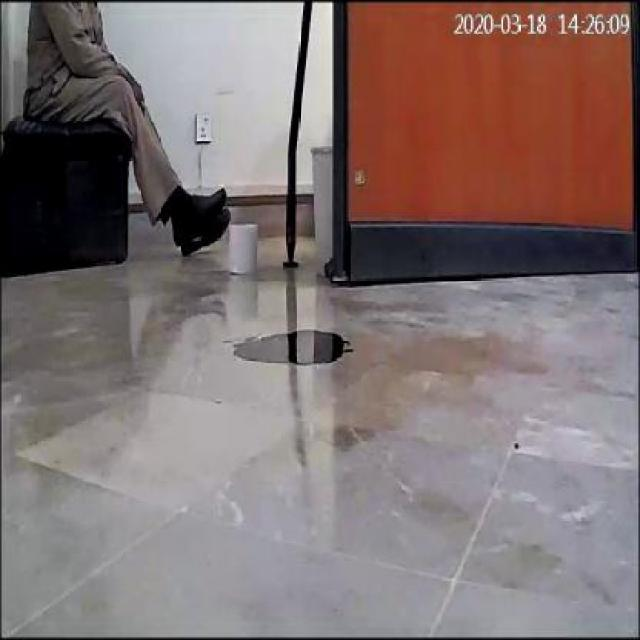spill: (228, 326, 350, 366)
